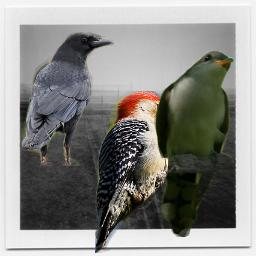Crow: (19, 32, 114, 166)
Cuckoo: (154, 50, 234, 237)
Woodpecker: (95, 91, 199, 253)
